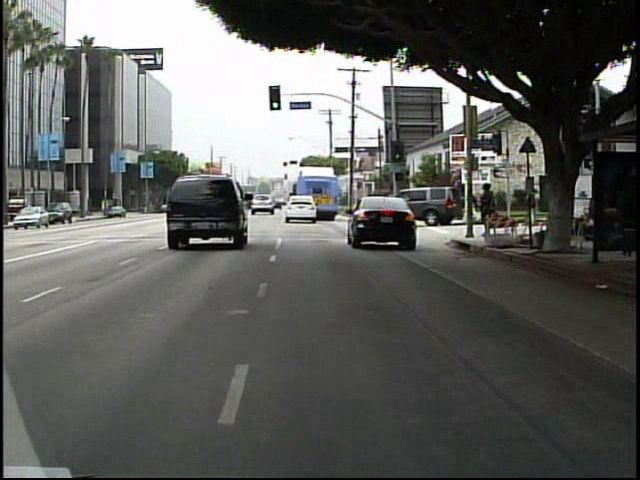person: (520, 181, 540, 236)
